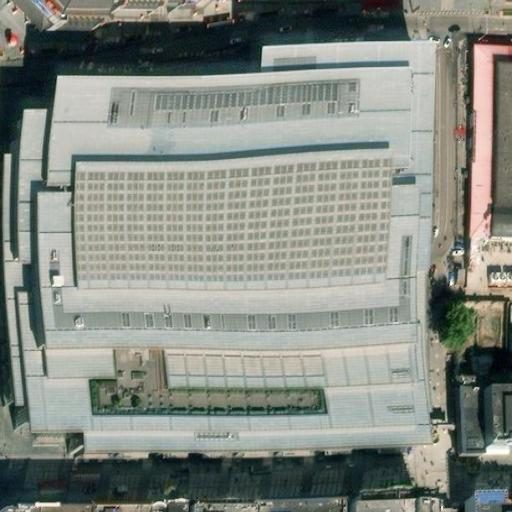building: (10, 72, 425, 476), (465, 49, 512, 238), (457, 384, 512, 465), (191, 496, 340, 512), (347, 487, 441, 512), (465, 486, 510, 512)
